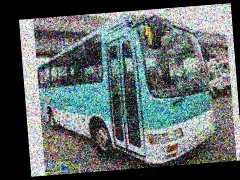bus: (34, 7, 223, 170)
